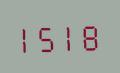eight: (81, 19, 101, 51)
five: (39, 20, 59, 53)
one: (60, 19, 80, 52), (18, 21, 38, 53)
